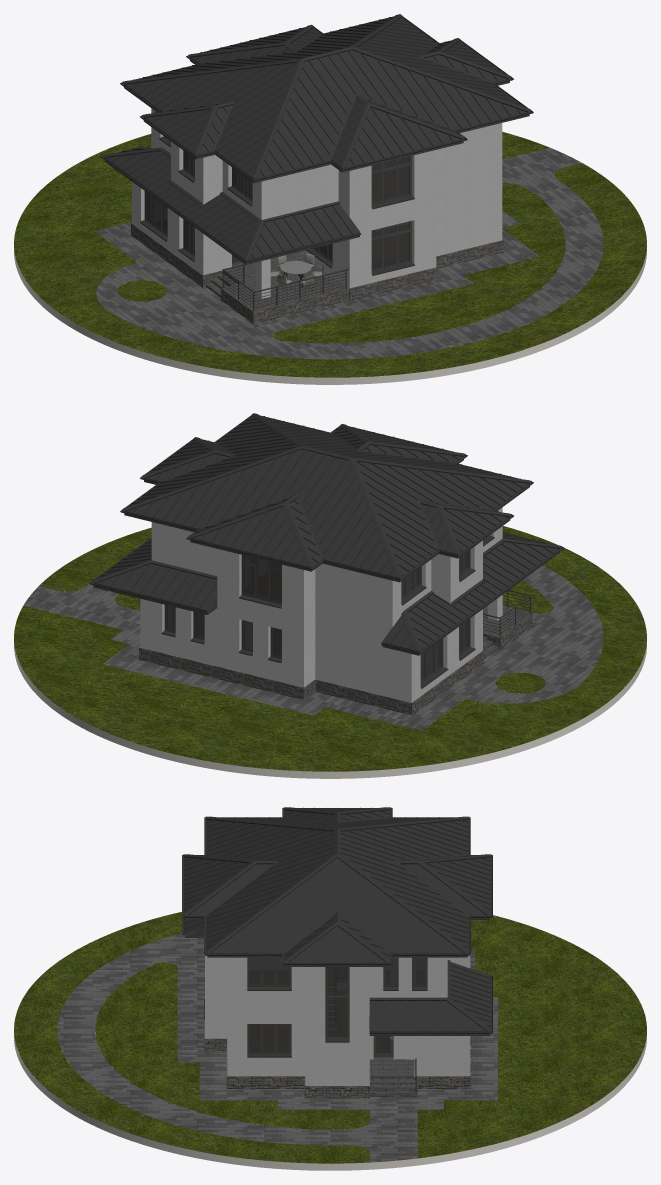
Rendered from casa_minimalista.glb.
3 views of the same model, one above another, from view 1: azimuth 30°, elevation 25°; view 2: azimuth 150°, elevation 25°; view 3: azimuth 270°, elevation 25° (orthographic).
Parts seen in each view (by area): view 1: object 2, object 12, object 6, object 14, object 9, object 13, object 8, object 7, GDLM49_247_GDLM49_247_0; view 2: object 2, object 12, object 14, object 6, object 9, object 13, object 7, object 8; view 3: object 12, object 2, object 6, object 14, object 13, object 9, object 7, object 8.
Boxes of the visible parts, bbox=[...] form: object 2: bbox=[14, 14, 646, 384]; object 12: bbox=[14, 131, 646, 377]; object 6: bbox=[95, 148, 603, 359]; object 14: bbox=[132, 108, 502, 298]; object 9: bbox=[131, 223, 503, 323]; object 13: bbox=[146, 151, 409, 270]; object 8: bbox=[205, 252, 348, 311]; object 7: bbox=[104, 60, 529, 264]; GDLM49_247_GDLM49_247_0: bbox=[270, 253, 325, 285]; object 2: bbox=[14, 413, 646, 778]; object 12: bbox=[14, 526, 646, 771]; object 14: bbox=[140, 507, 502, 702]; object 6: bbox=[23, 565, 603, 730]; object 9: bbox=[139, 614, 532, 715]; object 13: bbox=[167, 551, 469, 681]; object 7: bbox=[93, 459, 560, 655]; object 8: bbox=[483, 605, 532, 657]; object 12: bbox=[14, 912, 646, 1163]; object 2: bbox=[14, 807, 646, 1170]; object 6: bbox=[57, 933, 497, 1162]; object 14: bbox=[205, 955, 470, 1085]; object 13: bbox=[249, 957, 424, 1053]; object 9: bbox=[204, 996, 471, 1098]; object 7: bbox=[185, 915, 489, 1035]; object 8: bbox=[370, 1060, 417, 1095].
Bounding box in the file's own units: 28.41 × 9.7 × 28.41.
14 materials, 14 textured.
